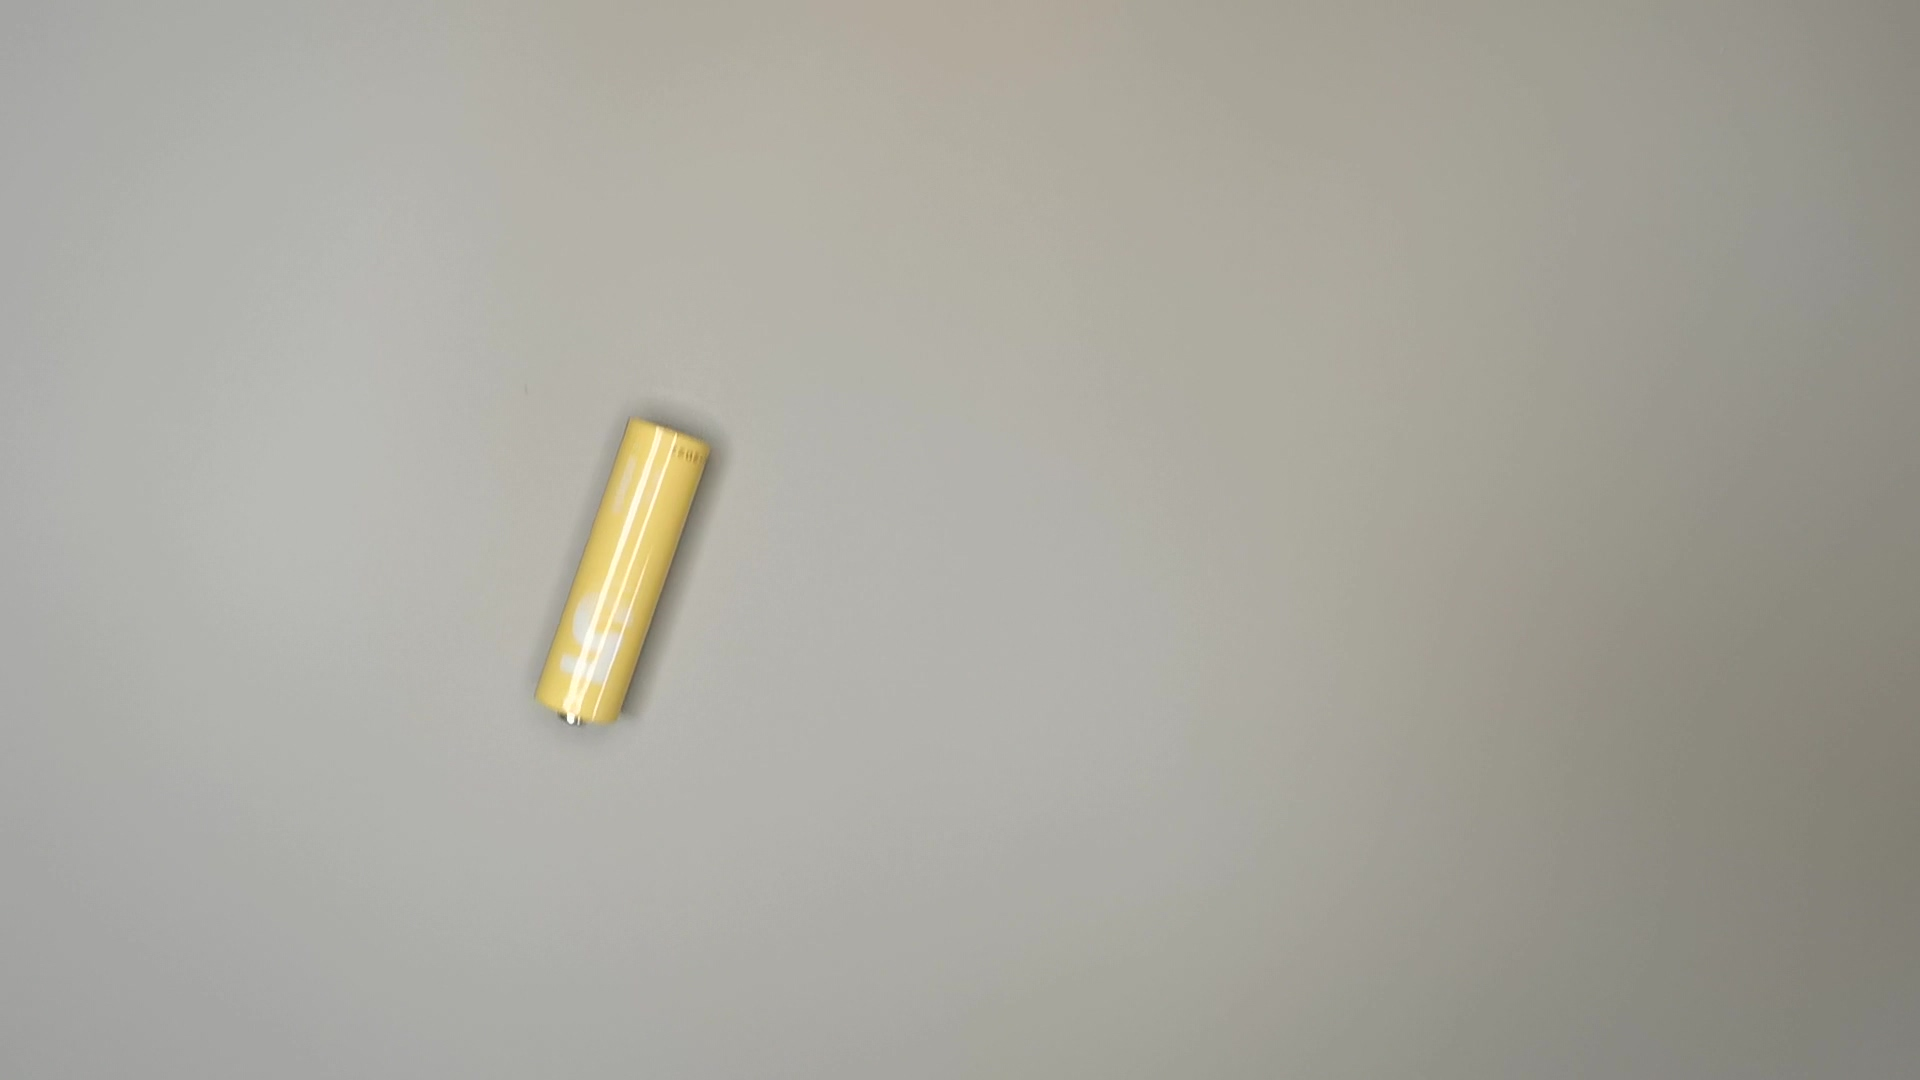battery: (533, 407, 712, 727)
